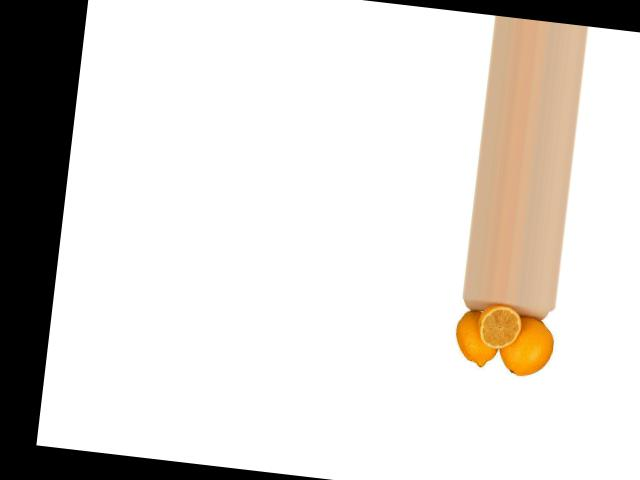lemon: (449, 302, 503, 369)
